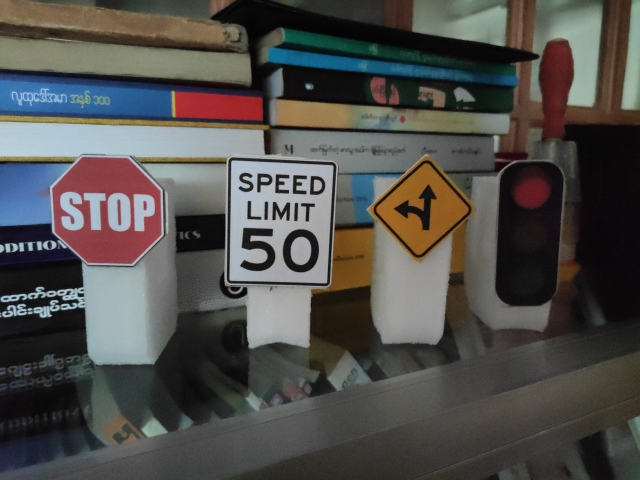Red Traffic Light: (493, 160, 565, 307)
Speed Limit 50: (224, 156, 339, 287)
Stop Sign: (49, 154, 165, 267)
Straight Or Left Sign: (371, 159, 473, 260)
